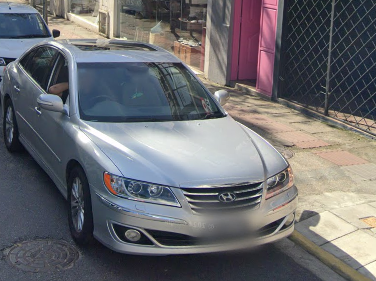car: (1, 39, 298, 259)
